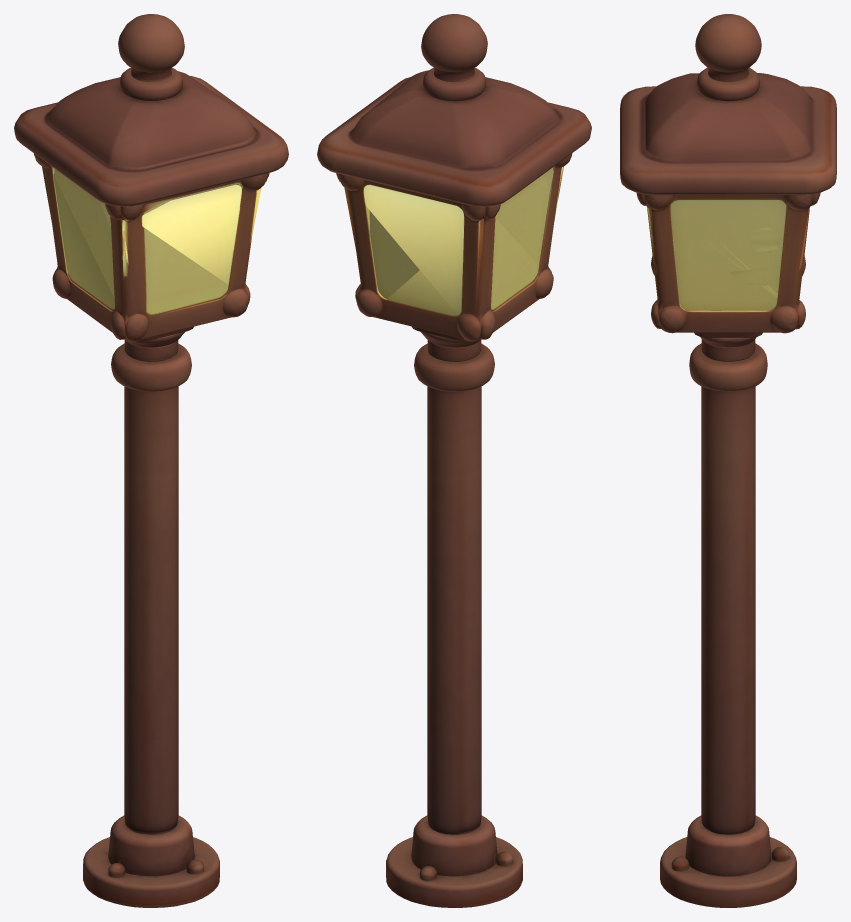
Rendered from C14_lamp.fbx.
3 views of the same model, side by side, from view 1: azimuth 30°, elevation 25°; view 2: azimuth 150°, elevation 25°; view 3: azimuth 270°, elevation 25° (orthographic).
Visible parts, largest first — view 1: tripo_node_d17f81a6; view 2: tripo_node_d17f81a6; view 3: tripo_node_d17f81a6.
Boxes of the visible parts, x1,y1,x2,y2 form: tripo_node_d17f81a6: (14,14,288,907); tripo_node_d17f81a6: (317,14,591,907); tripo_node_d17f81a6: (620,14,836,907).
Bounding box in the file's own units: 0.228 × 0.9995 × 0.228.
